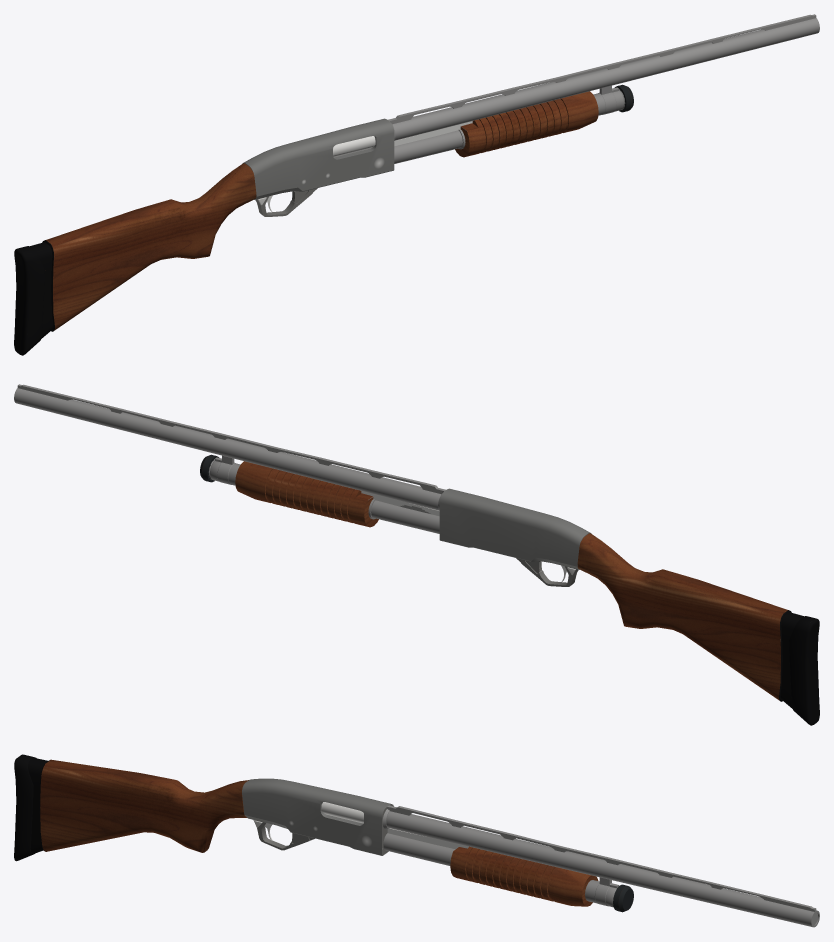
The model's file is shotGun.gltf.
3 renders of one model, top to bottom at view 1: azimuth 30°, elevation 25°; view 2: azimuth 150°, elevation 25°; view 3: azimuth 330°, elevation 25°, orthographic.
Parts seen in each view (by area): view 1: Cube.004, Cylinder, Cube, Cylinder.002, Cube.005, Cylinder.001; view 2: Cube.004, Cylinder, Cube, Cylinder.002, Cube.005, Cylinder.001; view 3: Cube.004, Cylinder, Cube, Cylinder.002, Cube.005, Cylinder.001, Cube.001, Cylinder.003, Cube.002.
Part boxes in pixels (x1,y1,x2,y2): Cube.004: (46, 163, 256, 330); Cylinder: (387, 14, 819, 140); Cube: (242, 118, 394, 199); Cylinder.002: (455, 91, 598, 157); Cube.005: (14, 240, 54, 355); Cylinder.001: (394, 84, 633, 163); Cube.004: (577, 533, 787, 700); Cylinder: (14, 384, 446, 510); Cube: (439, 488, 591, 569); Cylinder.002: (235, 461, 378, 527); Cube.005: (779, 610, 819, 725); Cylinder.001: (200, 454, 439, 533); Cube.004: (40, 759, 248, 852); Cylinder: (382, 805, 819, 927); Cube: (242, 778, 393, 855); Cylinder.002: (450, 846, 598, 906); Cube.005: (14, 754, 49, 861); Cylinder.001: (383, 833, 633, 912); Cube.001: (253, 820, 314, 850); Cylinder.003: (321, 802, 363, 823); Cube.002: (387, 828, 468, 849).
Size of the model in its own units: 16.43 by 2.87 by 0.6984.
Materials: 2 (2 with a texture image).
